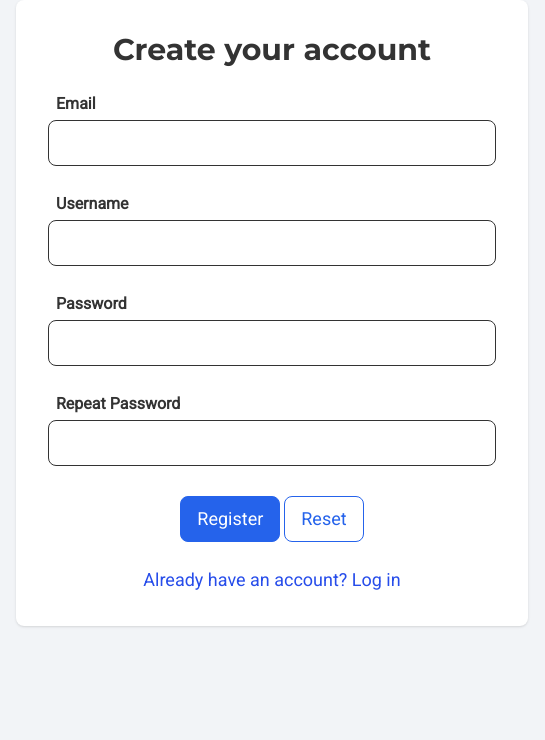
Register Page › Shows validation errors for empty fields
Click the button "Register".
click(230, 519)  # box [180,496,280,542]
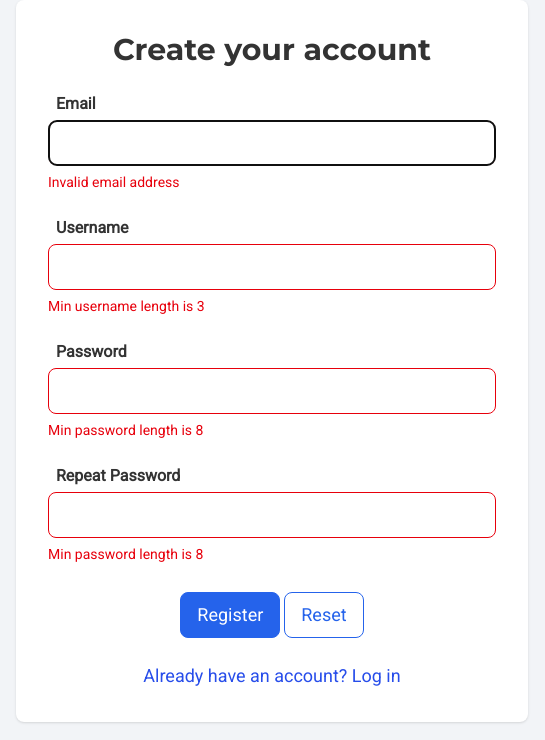
Now the text "Invalid email address" is shown, box [48,172,180,192]
Now the text "Min username length is 3" is shown, box [48,296,205,316]
Now the text "Min password length is 8" is shown 2 times, box [48,420,203,440]; [48,544,203,564]
